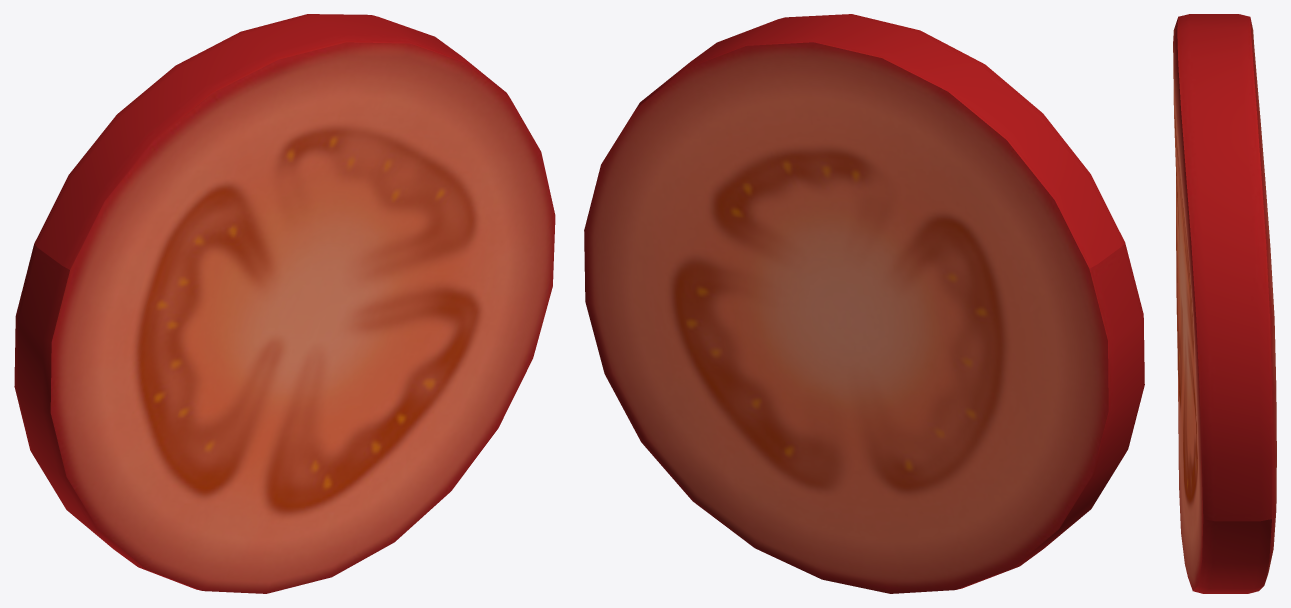
Rendered from TomatoSlice_1.fbx.
3 views of the same model, side by side, from view 1: azimuth 30°, elevation 25°; view 2: azimuth 150°, elevation 25°; view 3: azimuth 270°, elevation 25° (orthographic). The views are drawn at different scales.
Parts seen in each view (by area): view 1: TomatoSlice_1; view 2: TomatoSlice_1; view 3: TomatoSlice_1.
Part boxes in pixels (x1=…): TomatoSlice_1: x1=14, y1=14, x2=555, y2=593; TomatoSlice_1: x1=584, y1=14, x2=1144, y2=593; TomatoSlice_1: x1=1173, y1=14, x2=1276, y2=593.
Size of the model in its own units: 0.0682 by 0.0679 by 0.0122.
1 material, 1 textured.
